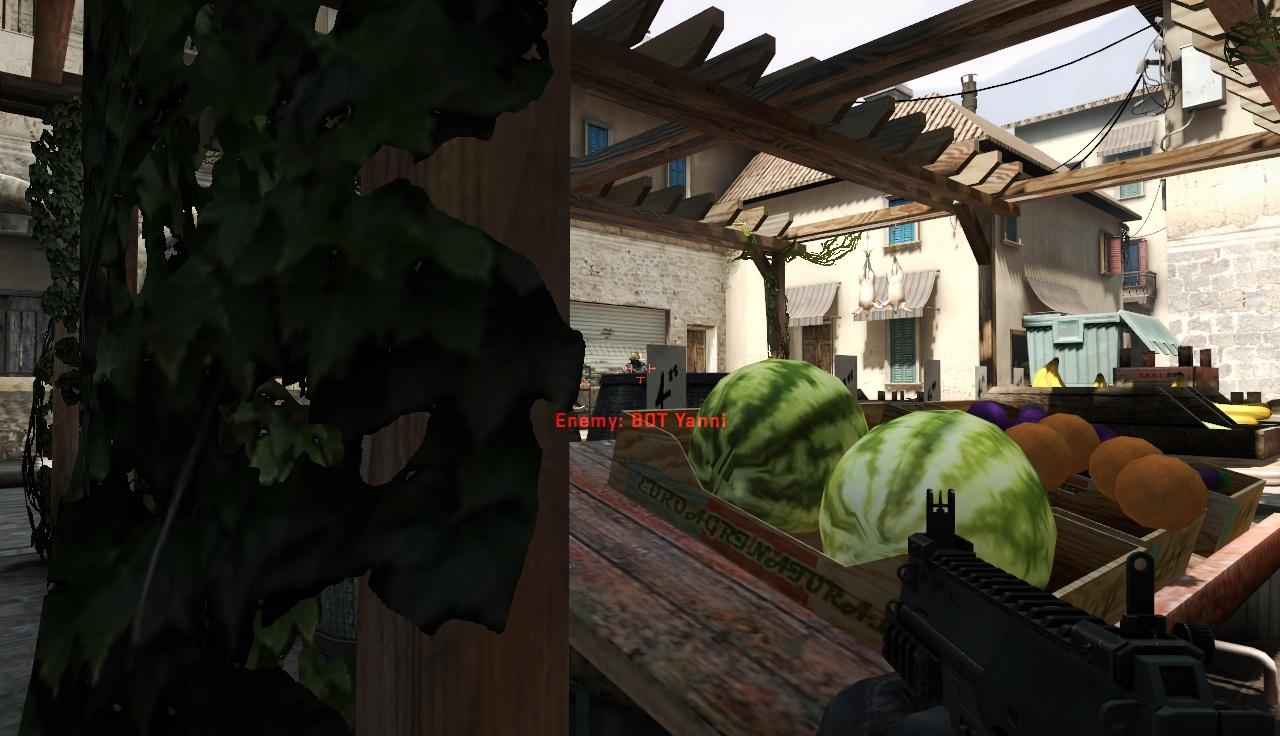ct: (624, 351, 647, 373)
cthead: (629, 351, 639, 363)
rifle: (883, 483, 1280, 736)
